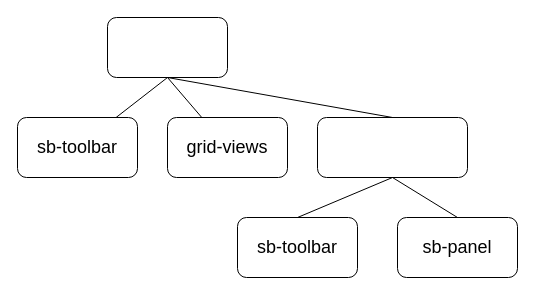
The diagram is 535 pixels wide and 295 high, and some of its shapes have lost their labels. Each missing label, with the box of its shape:
connector-detail: (316, 116, 468, 178)
connectorlib: (106, 16, 228, 78)
